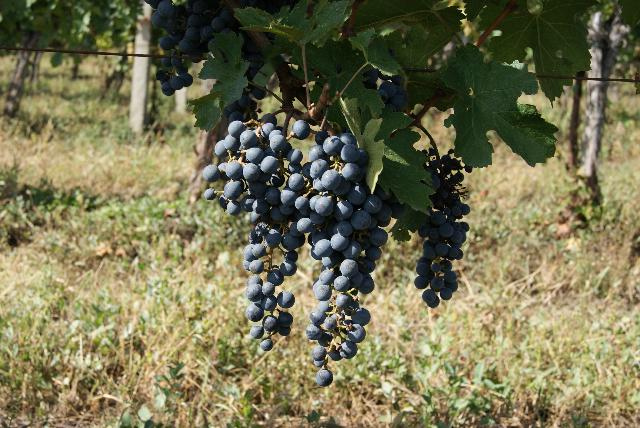grapes: (296, 134, 406, 386), (210, 122, 309, 351), (415, 148, 472, 308)
